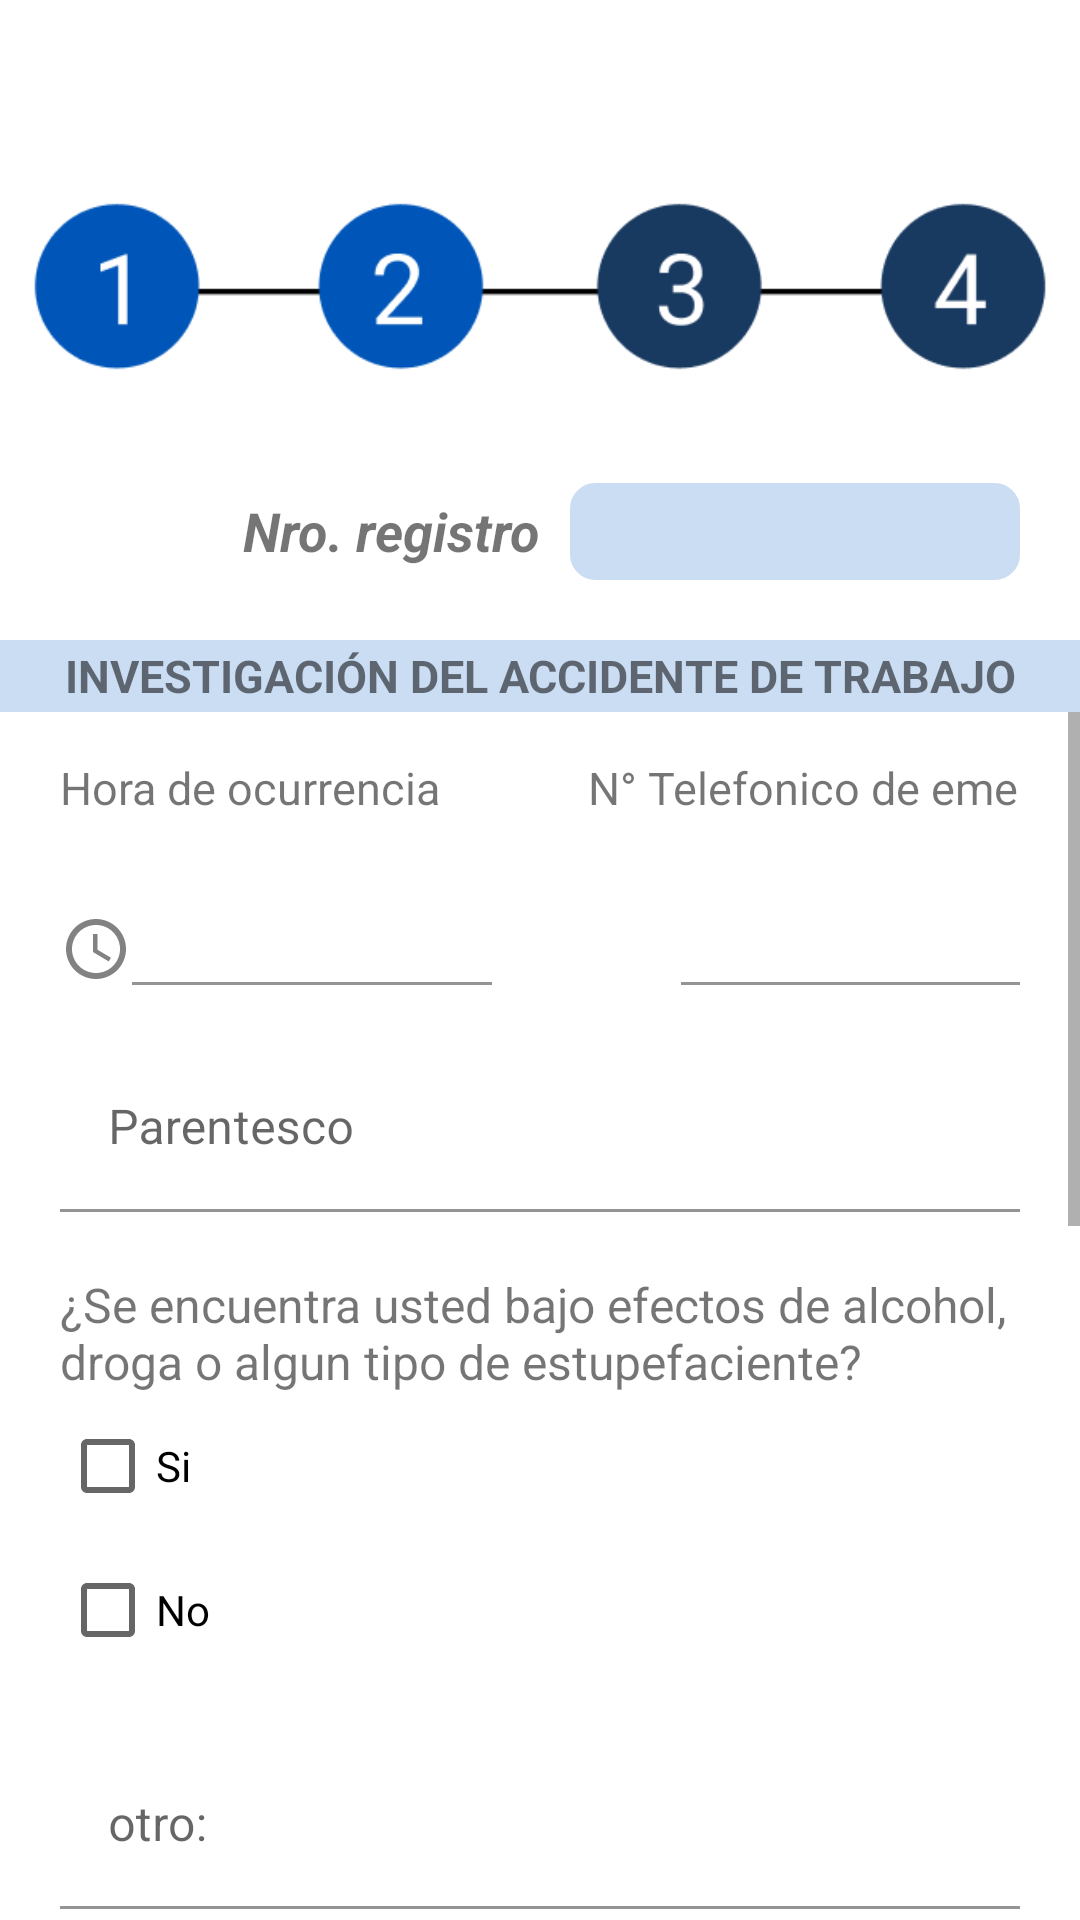

Screen size 1080w x 1920h. Icon name, then its box in pixels as (x1, y1, x2, y2):
access time: (66, 919, 126, 979)
